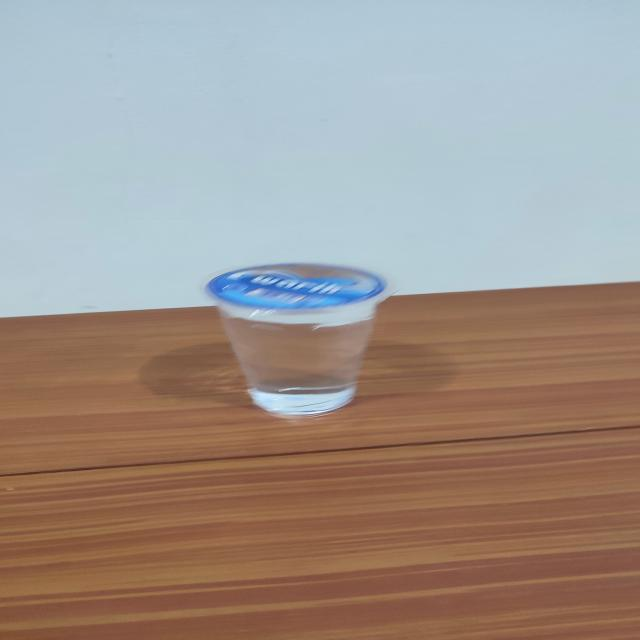air gelas: (190, 260, 402, 428)
